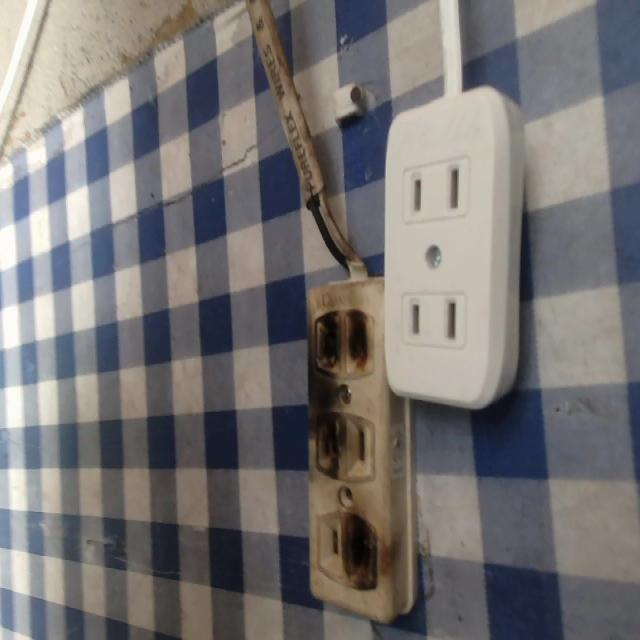-: (304, 303, 385, 384), (340, 502, 385, 594), (301, 405, 352, 484)
